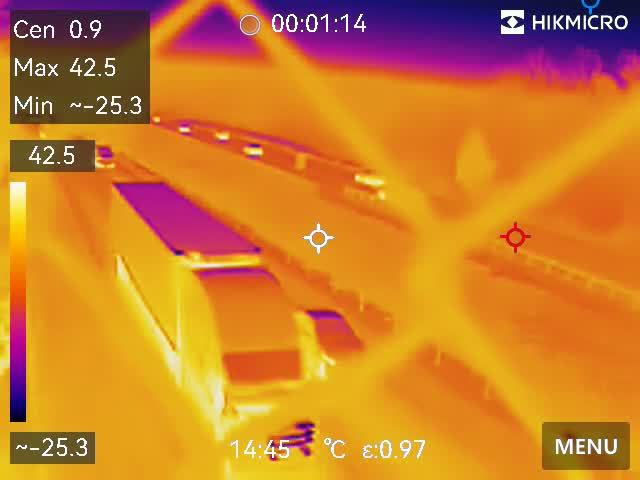heavyTruck: (102, 177, 319, 480)
smallCar: (303, 302, 379, 373)
vehicle: (353, 166, 397, 188), (94, 146, 122, 172), (242, 139, 266, 162), (176, 119, 194, 136), (213, 129, 238, 141), (151, 112, 168, 125)
